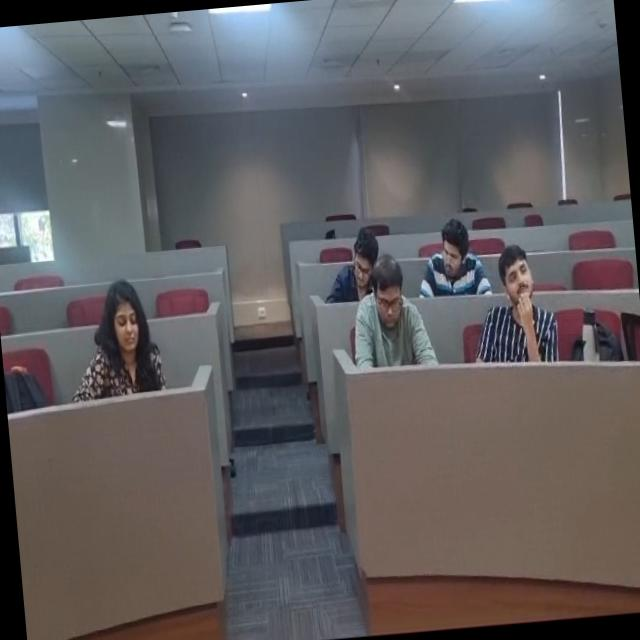cheating: (416, 215, 494, 298)
non-cheating: (86, 289, 171, 374), (484, 242, 551, 334), (360, 262, 426, 352), (345, 216, 390, 290)
